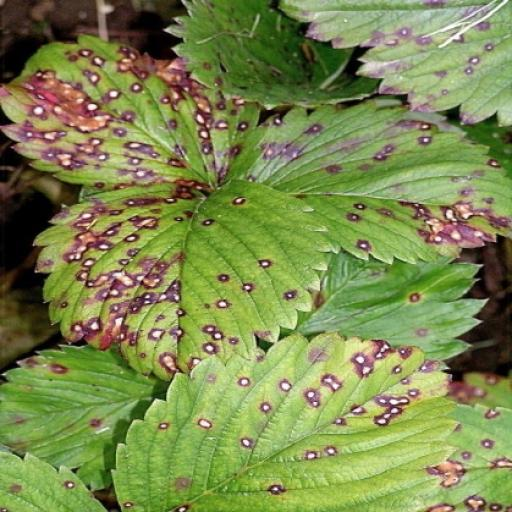Leaf Spot: (112, 330, 460, 511), (32, 178, 334, 380), (223, 96, 511, 265), (0, 33, 218, 201), (276, 0, 511, 128), (0, 342, 173, 492), (161, 0, 383, 108), (294, 251, 491, 371), (158, 62, 264, 187), (418, 371, 511, 511), (0, 451, 108, 511)
